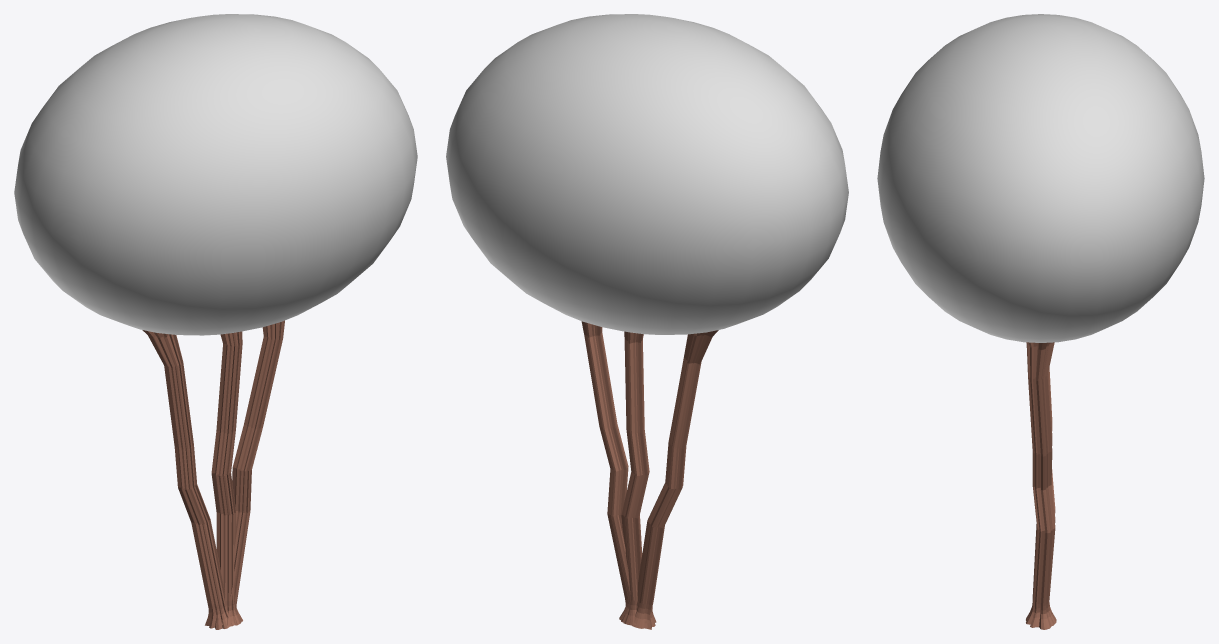
Rendered from arbol_4.fbx.
3 views of the same model, side by side, from view 1: azimuth 30°, elevation 25°; view 2: azimuth 150°, elevation 25°; view 3: azimuth 270°, elevation 25° (orthographic). The views are drawn at different scales.
Visible parts, largest first — view 1: Arbol_4; view 2: Arbol_4; view 3: Arbol_4.
Part boxes in pixels (x1,y1,x2,y2): Arbol_4: (14,14,417,629); Arbol_4: (446,14,848,629); Arbol_4: (877,14,1204,629).
Size of the model in its own units: 674 by 1042 by 532.
